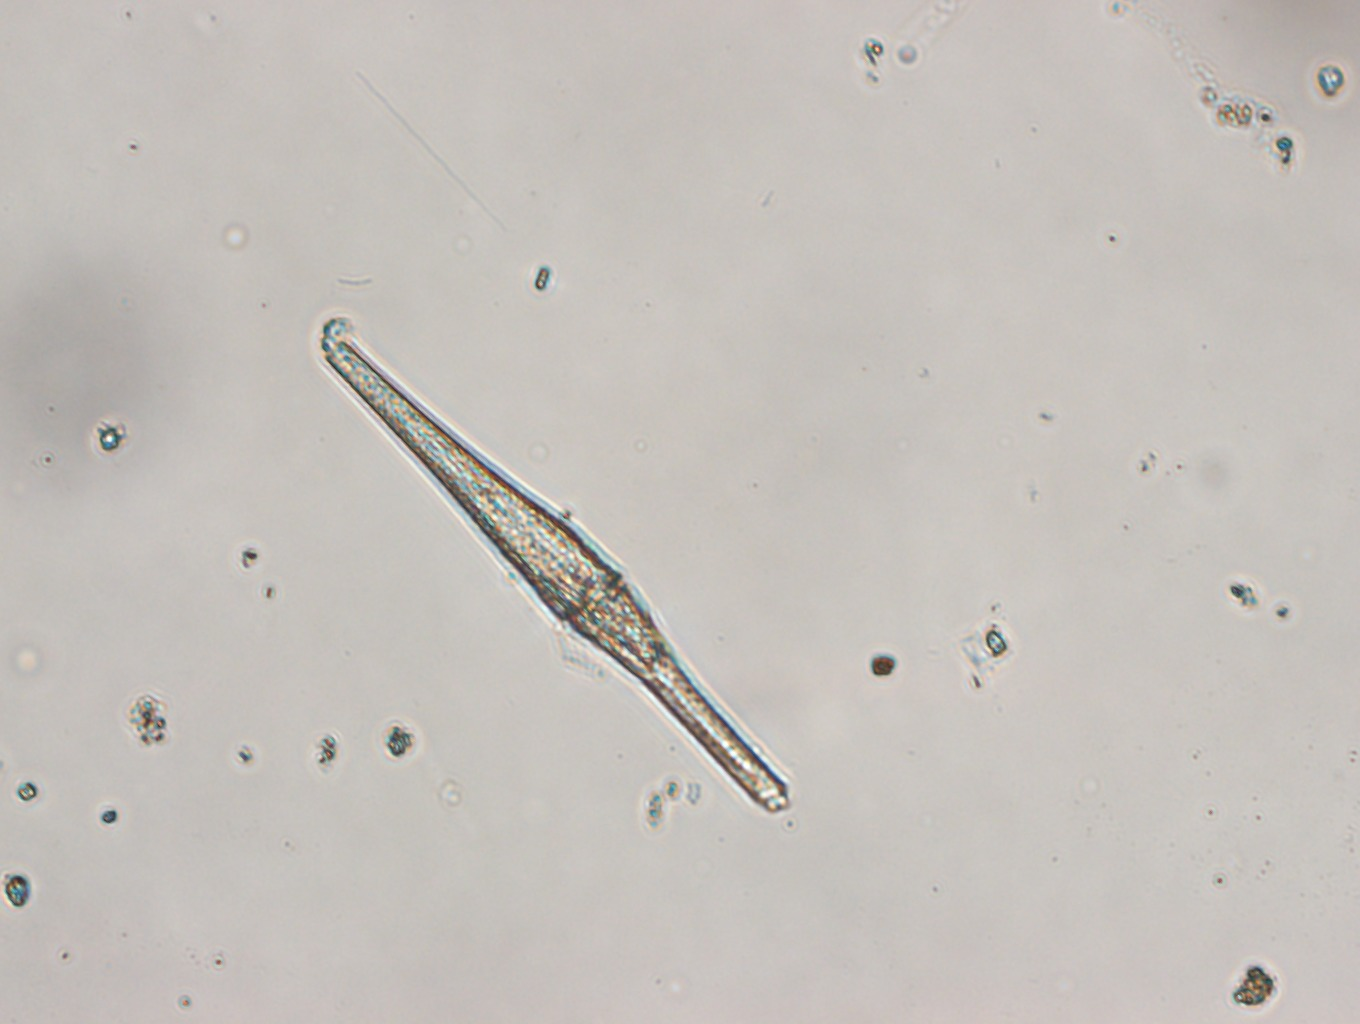ceratium fusus: (316, 326, 800, 823)
